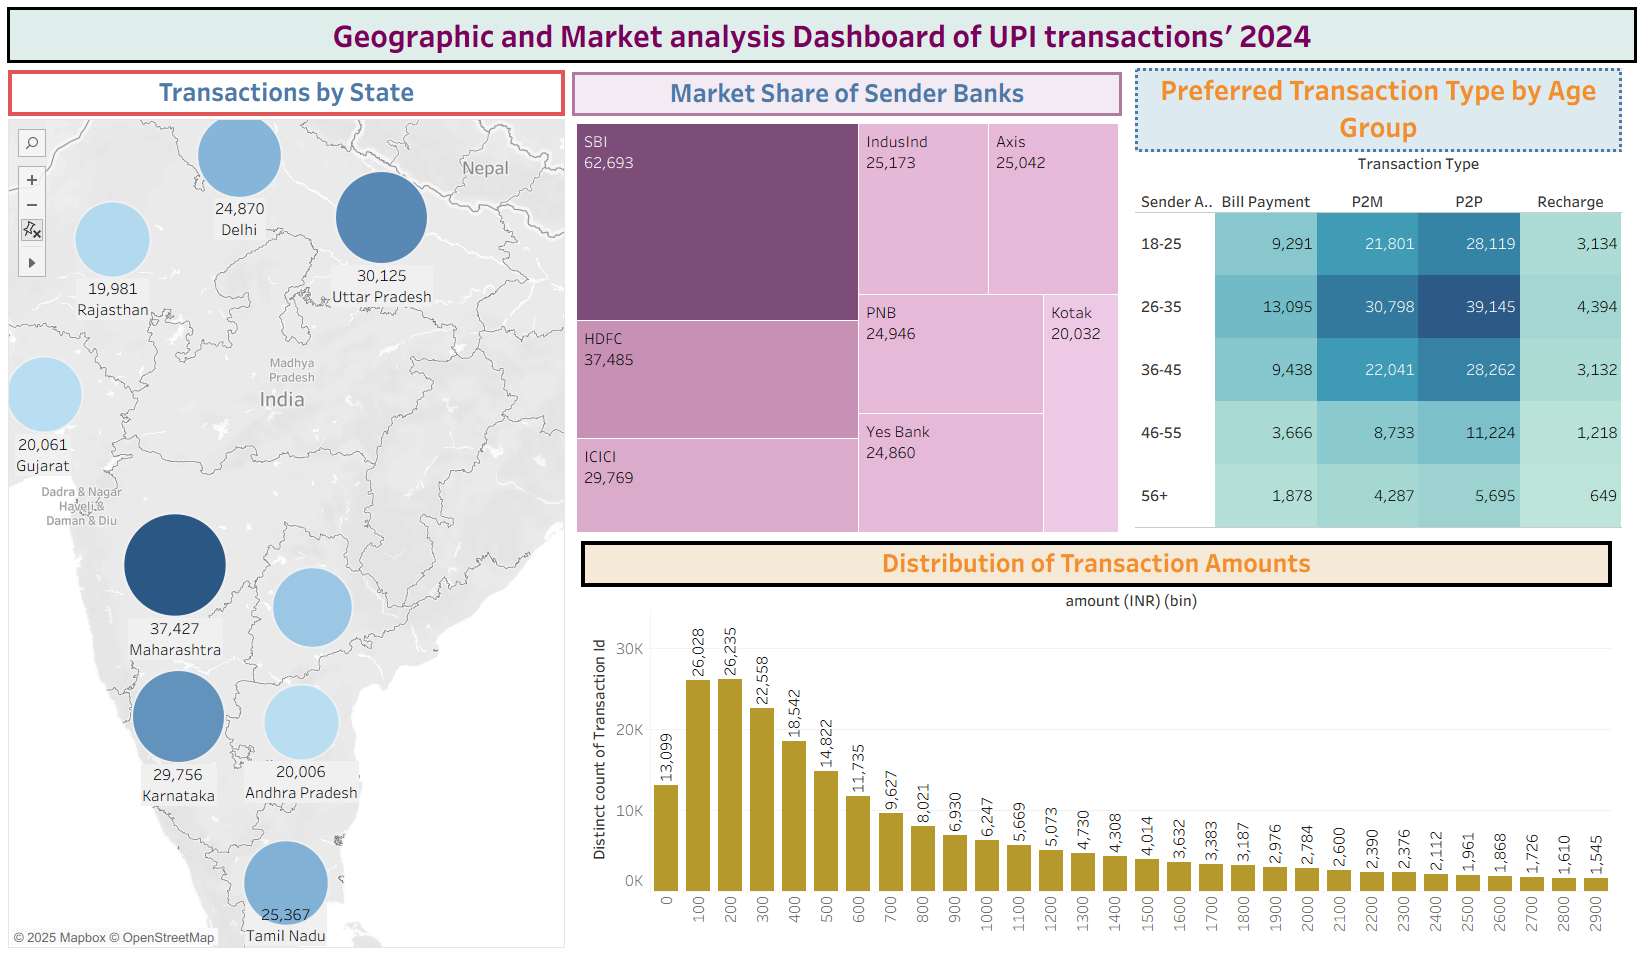

The page's visual inventory and layout, read from the dashboard file:
{"tool":"tableau","page":{"name":"Dashboard 2","canvas":[1000,1000],"units":"permille","ordinal":1},"visuals":[{"type":"title","box":[9.8,13,987.8,58]},{"type":"worksheet","title":"Heatmap","mark":"Square","rows":["sender_age_group"],"cols":["transaction type"],"box":[693.5,75.7,294.9,479.3]},{"type":"worksheet","title":"Map","mark":"Automatic","box":[10.4,78.1,337.6,914.8]},{"type":"worksheet","title":"Treemap","mark":"Automatic","box":[352.2,80.5,333.3,482.8]},{"type":"worksheet","title":"Histogram","mark":"Automatic","rows":["transaction id"],"cols":["amount (INR) (bin)"],"box":[357.7,569.2,624.6,427.2]}]}

Visuals, with their boxes on the dashboard's canvas, which has no fixed pixel size, in thousandths of its width and height (x1, y1, x2, y2). These are canvas units, not pixel positions in the 1651x953 screenshot, which may show the page scaled, cropped or inside an application window:
title: <box>10,13,998,71</box>
"Heatmap" worksheet (Square marks): <box>694,76,988,555</box>
"Map" worksheet: <box>10,78,348,993</box>
"Treemap" worksheet: <box>352,80,686,563</box>
"Histogram" worksheet: <box>358,569,982,996</box>
